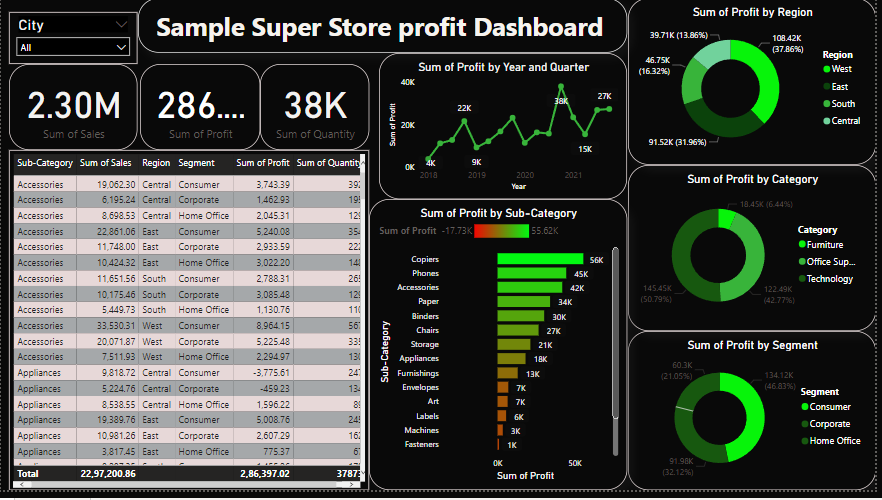

This screenshot's page, from the dashboard's own definition file:
{"tool":"powerbi","page":{"name":"Page 1","canvas":[1280,720],"ordinal":0},"visuals":[{"type":"textbox","box":[200.5,0,715.6,80.5],"z":0},{"type":"donutChart","fields":{"Y":["Sum(Orders.Profit)"],"Category":["Orders.Region"]},"box":[917.6,0,362.9,244.4],"z":1000},{"type":"donutChart","fields":{"Y":["Sum(Orders.Profit)"],"Series":["Orders.Category"]},"box":[917.6,244.4,362.9,242.9],"z":2000},{"type":"donutChart","fields":{"Y":["Sum(Orders.Profit)"],"Series":["Orders.Segment"]},"box":[917.6,487.3,362.9,232.7],"z":3000},{"type":"lineChart","fields":{"Y":["Sum(Orders.Profit)"],"Category":["Orders.Order Date.Variation.Date Hierarchy.Year","Orders.Order Date.Variation.Date Hierarchy.Quarter","Orders.Order Date.Variation.Date Hierarchy.Month","Orders.Order Date.Variation.Date Hierarchy.Day"]},"box":[553.2,80.5,362.9,213.7],"z":4000},{"type":"clusteredBarChart","fields":{"Y":["Sum(Orders.Profit)"],"Category":["Orders.Sub-Category"]},"box":[538.5,294.1,377.6,425.9],"z":5000},{"type":"tableEx","fields":{"Values":["Orders.Sub-Category","Sum(Orders.Sales)","Orders.Region","Orders.Segment","Sum(Orders.Profit)","Sum(Orders.Quantity)"]},"box":[11.7,222.4,526.8,497.6],"z":6000},{"type":"card","fields":{"Values":["Sum(Orders.Sales)"]},"box":[12.3,96.6,187.9,126.4],"z":7000},{"type":"card","fields":{"Values":["Sum(Orders.Profit)"]},"box":[203.7,96.6,175.6,126.4],"z":8000},{"type":"card","fields":{"Values":["Sum(Orders.Quantity)"]},"box":[379.3,96.6,159.8,126.4],"z":9000},{"type":"slicer","fields":{"Values":["Orders.City"]},"box":[12.3,21.1,187.9,75.5],"z":10000}]}

Visuals, with their boxes in screenshot pixels (x1, y1, x2, y2), scaled from the page's 1280x720 canvas onto the 882x500 screenshot:
textbox: <bbox>138, 0, 631, 56</bbox>
donutChart - Sum(Orders.Profit) x Orders.Region: <bbox>632, 0, 881, 170</bbox>
donutChart - Sum(Orders.Profit) x Orders.Category: <bbox>632, 170, 881, 338</bbox>
donutChart - Sum(Orders.Profit) x Orders.Segment: <bbox>632, 338, 881, 499</bbox>
lineChart - Sum(Orders.Profit) x Orders.Order Date.Variation.Date Hierarchy.Year: <bbox>381, 56, 631, 204</bbox>
clusteredBarChart - Sum(Orders.Profit) x Orders.Sub-Category: <bbox>371, 204, 631, 499</bbox>
tableEx - Orders.Sub-Category x Sum(Orders.Sales): <bbox>8, 154, 371, 499</bbox>
card - Sum(Orders.Sales): <bbox>8, 67, 138, 155</bbox>
card - Sum(Orders.Profit): <bbox>140, 67, 261, 155</bbox>
card - Sum(Orders.Quantity): <bbox>261, 67, 371, 155</bbox>
slicer - Orders.City: <bbox>8, 15, 138, 67</bbox>
